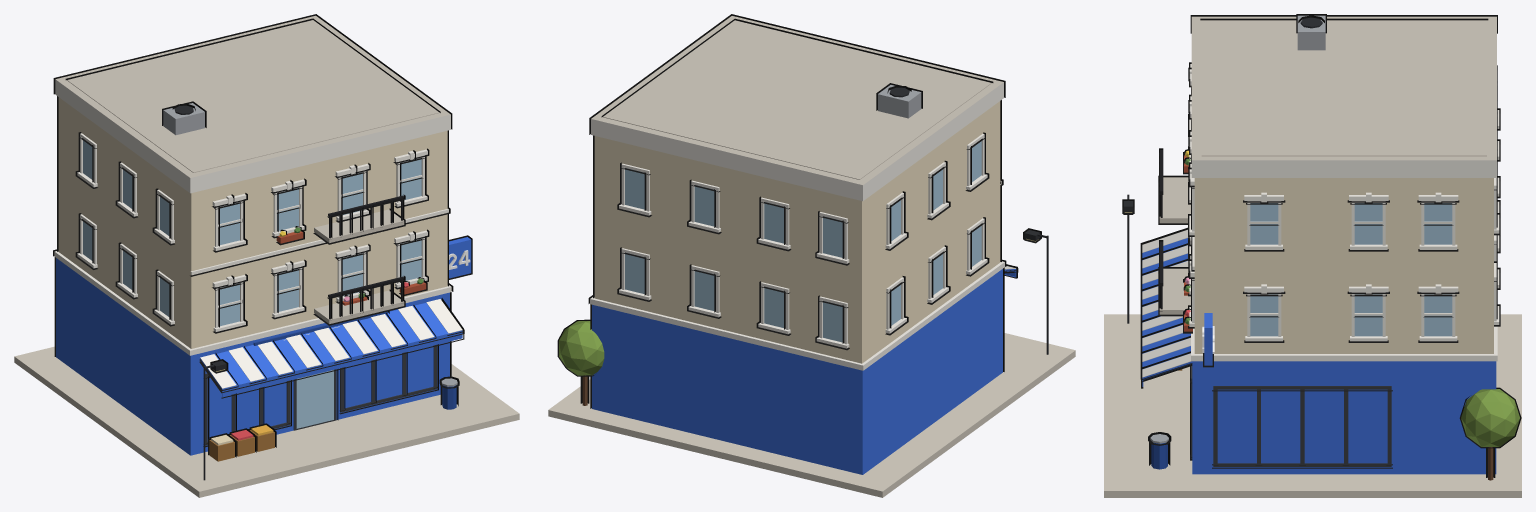
File: Market_market_24_1_2.fbx
3 views of the same model, side by side, from view 1: azimuth 30°, elevation 25°; view 2: azimuth 150°, elevation 25°; view 3: azimuth 270°, elevation 25° (orthographic). The views are drawn at different scales.
Visible parts, largest first — view 1: Market_market_24_1_2; view 2: Market_market_24_1_2; view 3: Market_market_24_1_2.
Part boxes in pixels (box(x1,y1,x2,y2)): Market_market_24_1_2: box(14, 14, 519, 497); Market_market_24_1_2: box(548, 14, 1075, 497); Market_market_24_1_2: box(1104, 14, 1521, 497).
Bounding box in the file's own units: 12.09 × 10.86 × 12.
